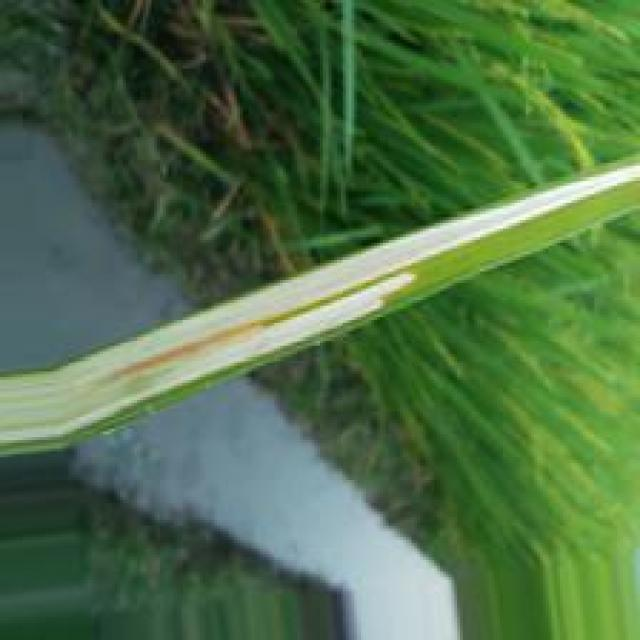Rice_Hispa: (0, 163, 640, 443)
